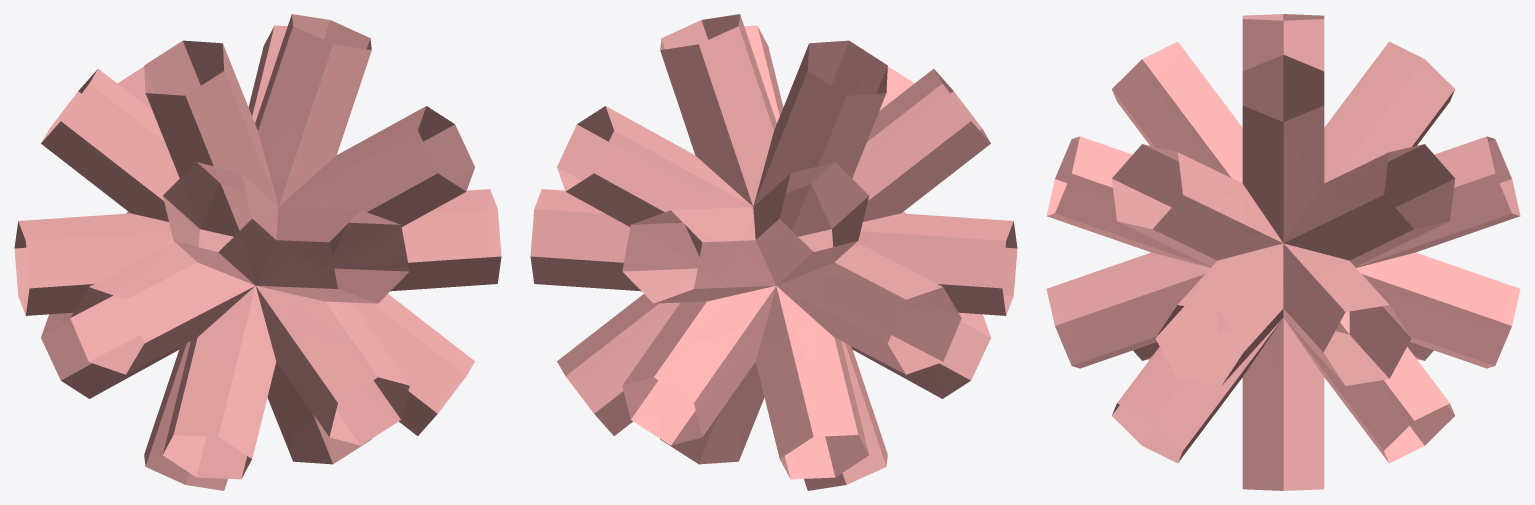
File: SmallDodecahemicosacron.obj
The picture shows the model from 3 angles, left to right: view 1: azimuth 30°, elevation 25°; view 2: azimuth 150°, elevation 25°; view 3: azimuth 270°, elevation 25°; orthographic projection.
Size of the model in its own units: 10.06 by 10.06 by 10.06.
